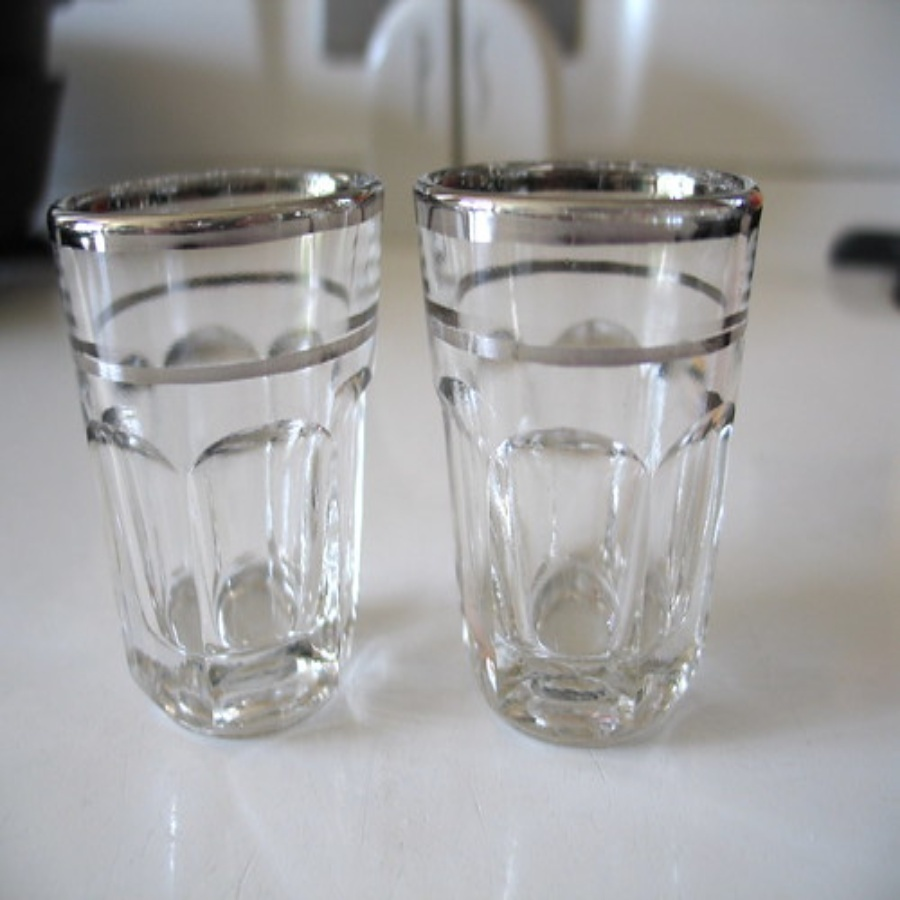whiskey: (434, 165, 757, 733), (59, 162, 382, 730)
